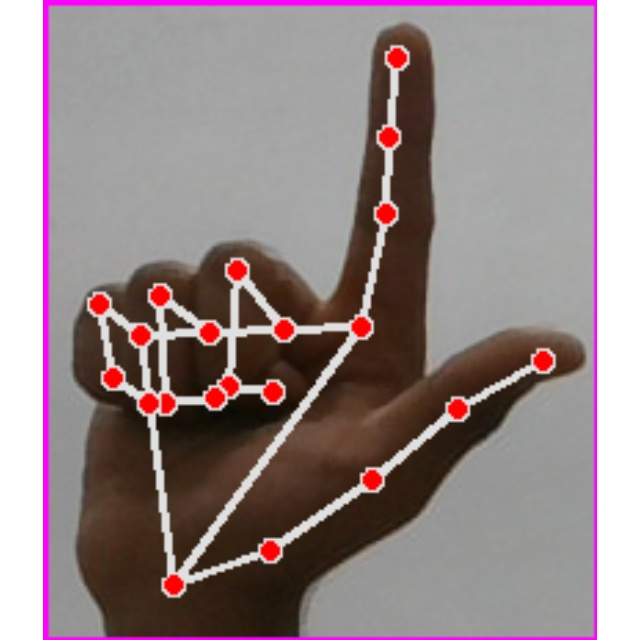L: (43, 0, 597, 640)
